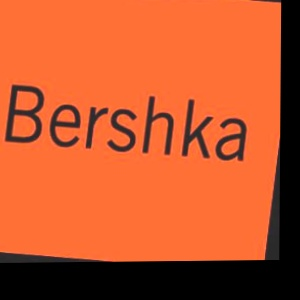bershka: (243, 27, 270, 103)
